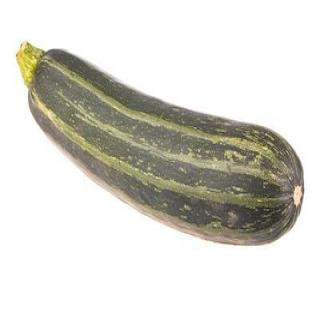Zucchini: (17, 44, 303, 244)
